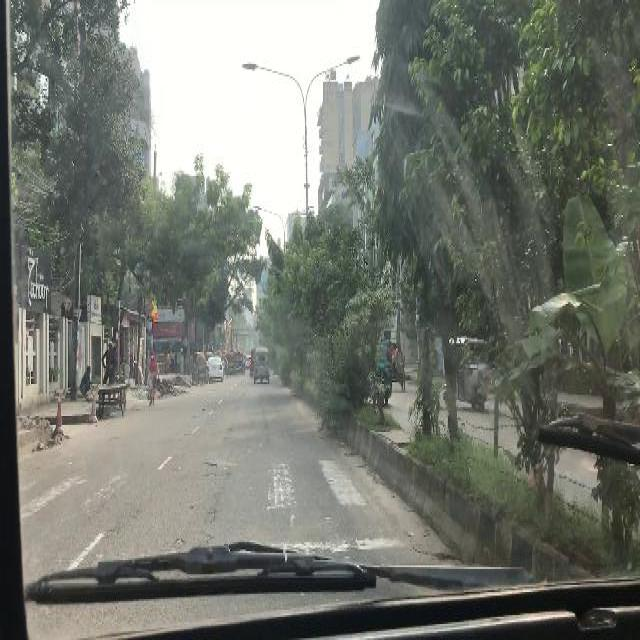car: (208, 357, 222, 379)
minivan: (248, 348, 255, 374)
rickshaw: (392, 343, 406, 389), (195, 353, 207, 379), (226, 352, 234, 373)
three wheelers -CNG-: (442, 334, 490, 406), (252, 348, 270, 384)
